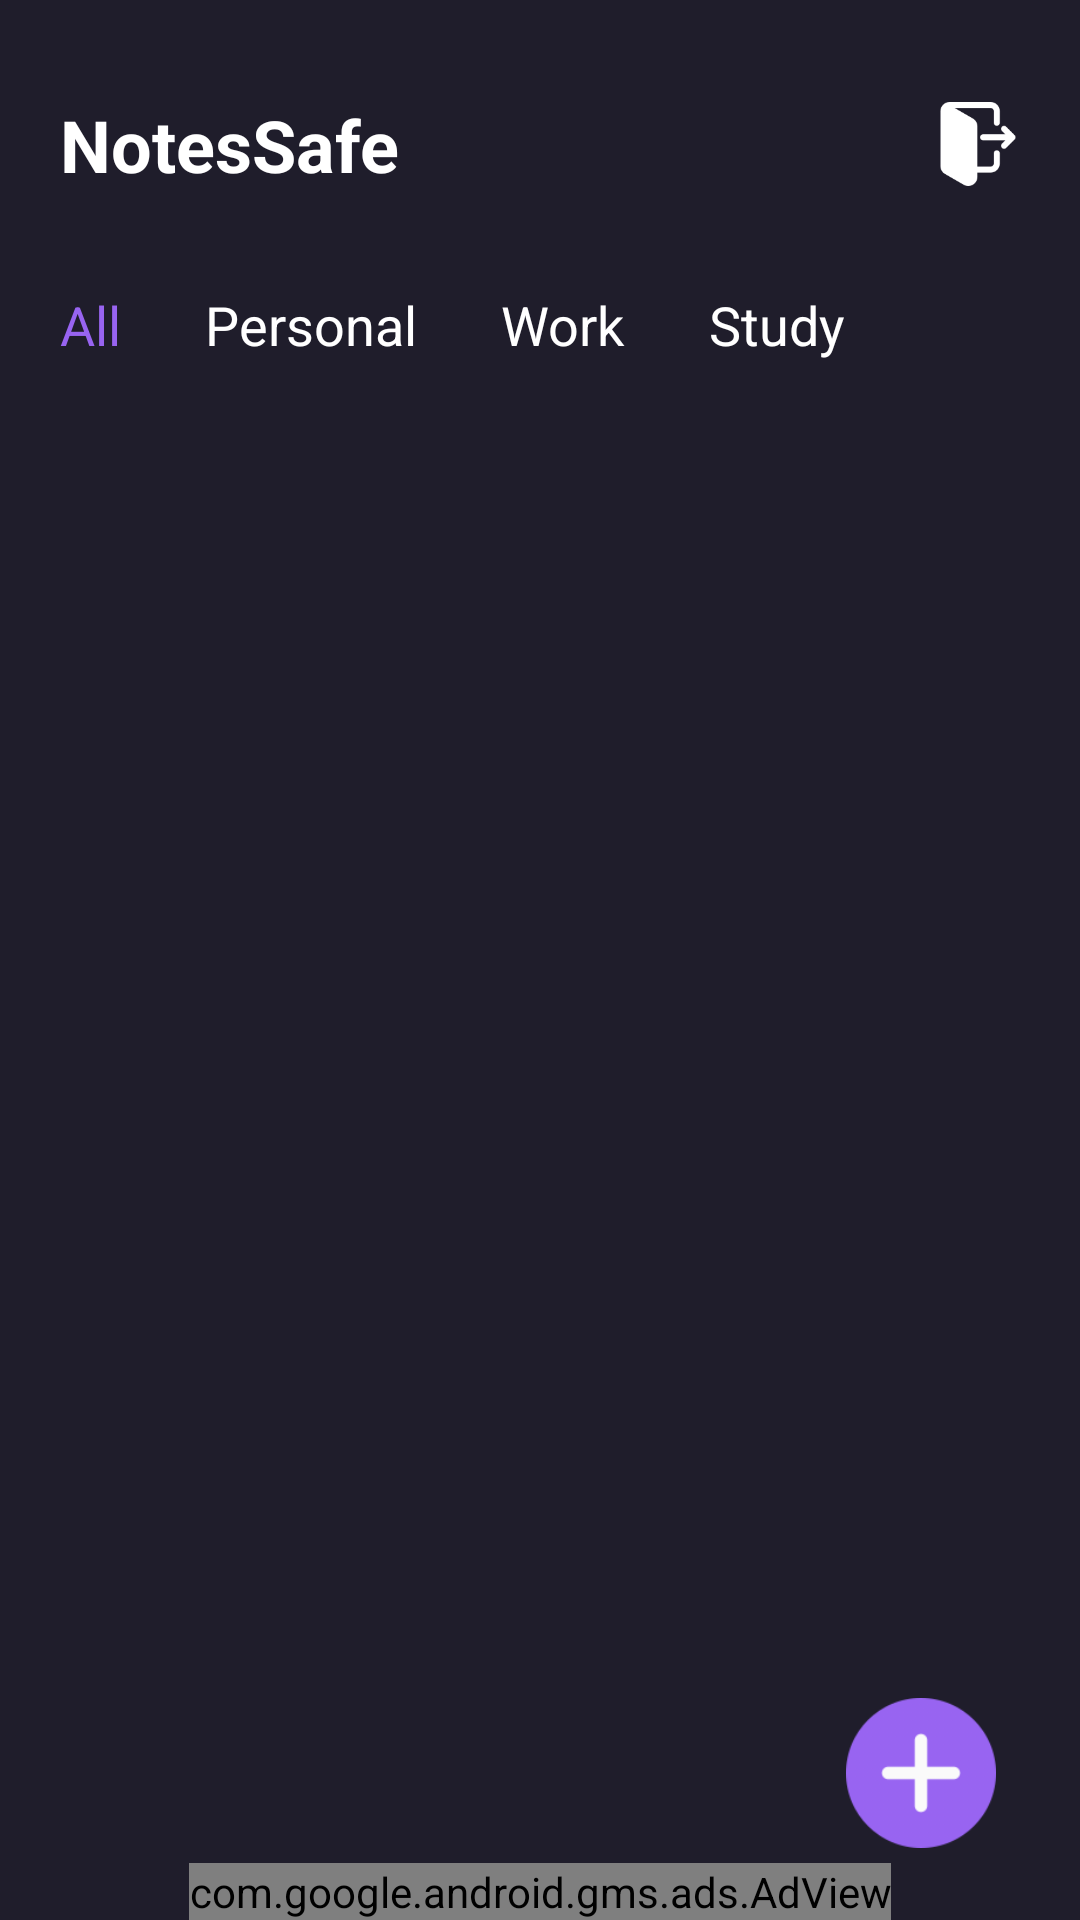

Point at icon controls on the screen. Image size 1080px×1920px, points as (x=x, y=y).
floating: (x=921, y=1773)
